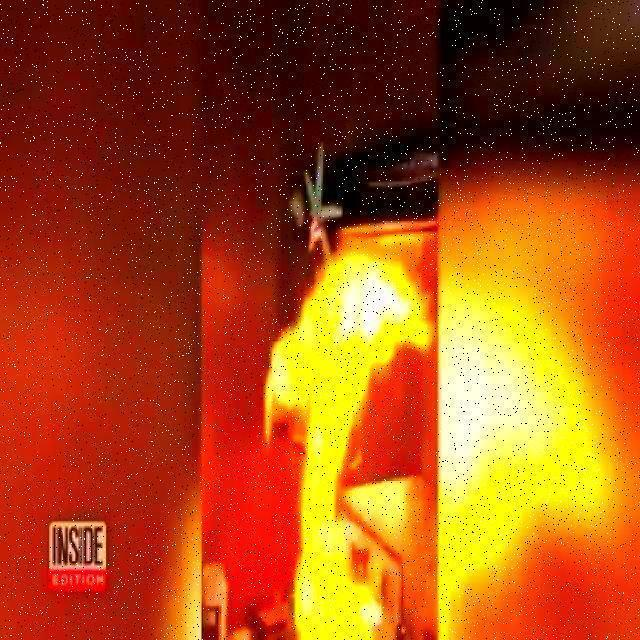smoke: (269, 252, 432, 640)
